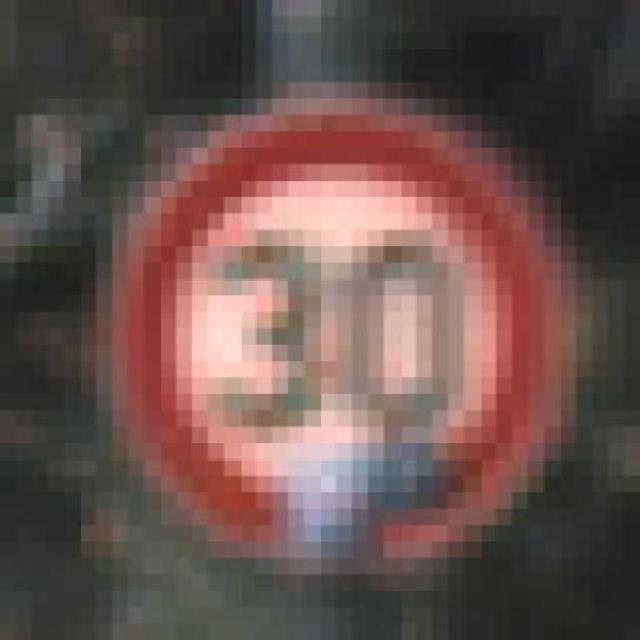Speed Limit 30 KMPh: (112, 49, 592, 608)
